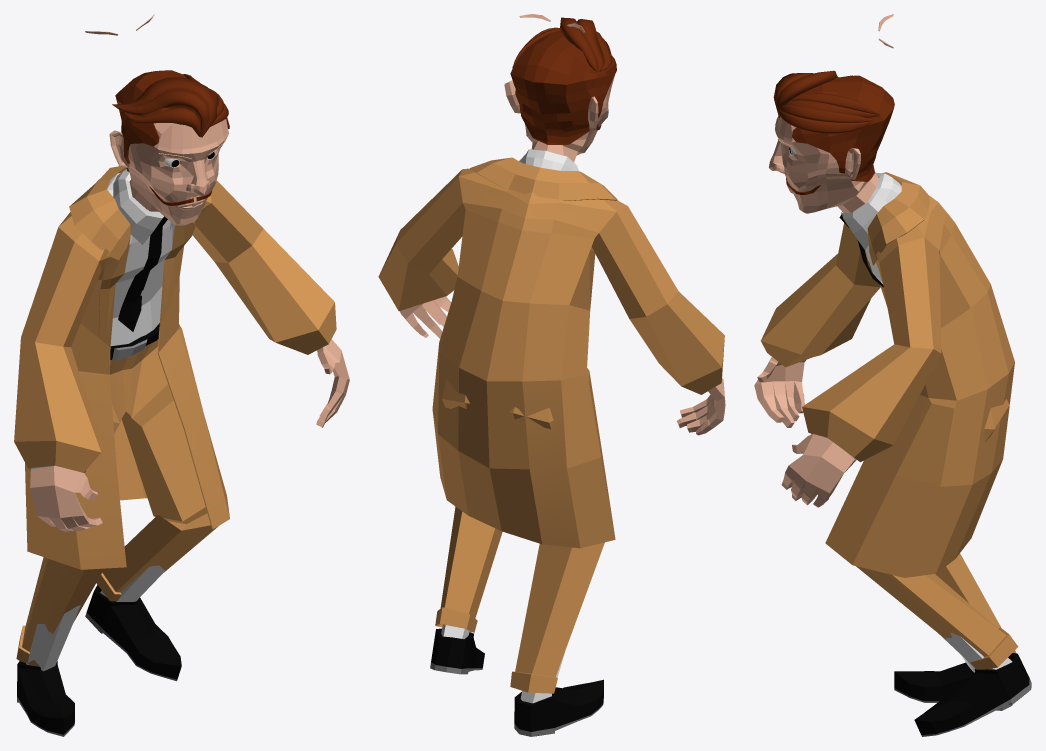
File: rigAnimated.fbx
3 renders of one model, left to right at view 1: azimuth 30°, elevation 25°; view 2: azimuth 150°, elevation 25°; view 3: azimuth 270°, elevation 25°, orthographic. The views are drawn at different scales.
Visible parts, largest first — view 1: Cube.007, Cube.005, Cube.001, Cube.010, Cube, NurbsPath, Cube.009, Cube.006, NurbsPath.001; view 2: Cube.007, Cube.005, Cube.009, Cube.010, Cube.001, Cube, NurbsPath; view 3: Cube.007, Cube.001, Cube.005, Cube.010, Cube, Cube.009, NurbsPath.003, NurbsPath.002, NurbsPath.
Part boxes in pixels (x1,y1,x2,y2): Cube.007: (14,166,336,569); Cube.005: (16,323,218,666); Cube.001: (26,169,349,671); Cube.010: (17,585,181,736); Cube: (109,119,229,225); NurbsPath: (112,77,216,137); Cube.009: (115,70,229,171); Cube.006: (118,216,167,331); NurbsPath.001: (117,101,200,136); Cube.007: (378,157,724,548); Cube.005: (435,379,604,693); Cube.009: (510,30,616,144); Cube.010: (430,628,603,736); Cube.001: (399,149,725,703); Cube: (504,54,614,162); NurbsPath: (560,17,603,72); Cube.007: (761,172,1014,577); Cube.001: (754,172,1012,672); Cube.005: (856,399,1018,669); Cube.010: (894,653,1031,736); Cube: (769,116,878,213); Cube.009: (792,75,894,181); NurbsPath.003: (779,105,873,133); NurbsPath.002: (784,93,880,117); NurbsPath: (773,70,852,118).
Bounding box in the file's own units: 492 × 983 × 359.
